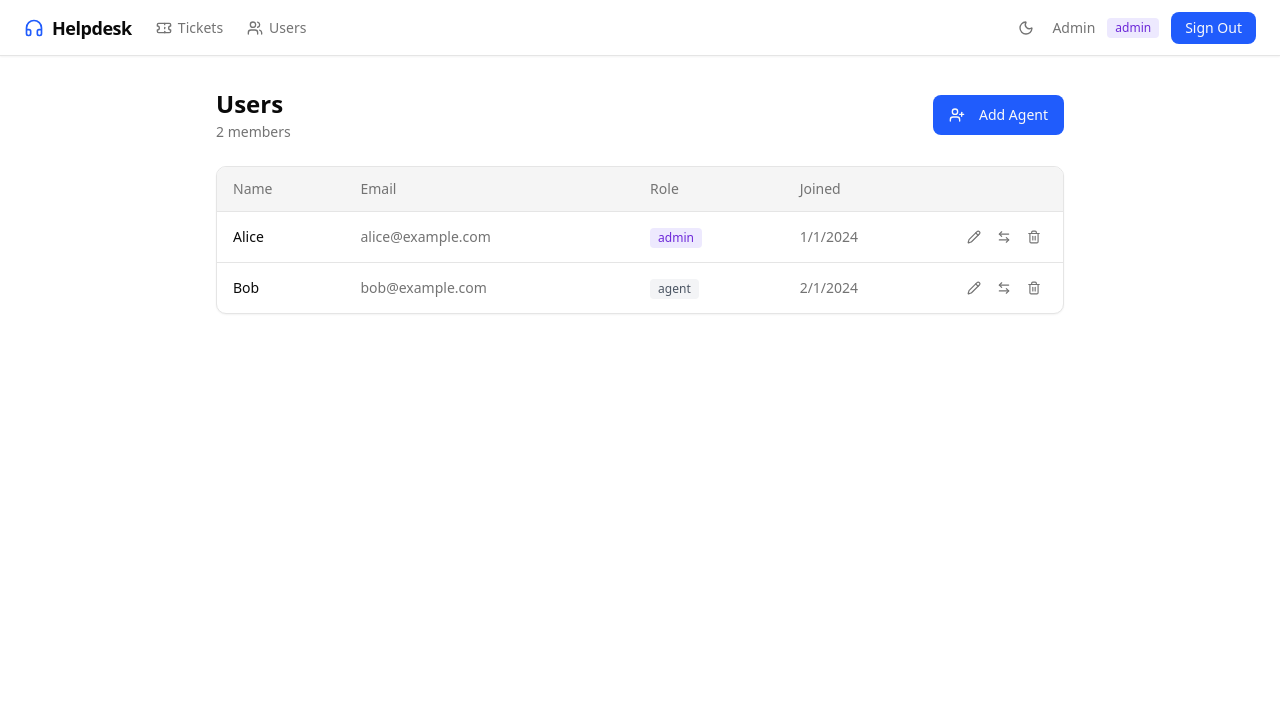
UsersPage › Add Agent form › shows validation errors when submitting empty
Check: the text "Alice" is shown, box top-left (217, 212), bottom-right (344, 262)
Click the button "Add Agent". click: (998, 115)
box: top-left (933, 95), bottom-right (1064, 135)
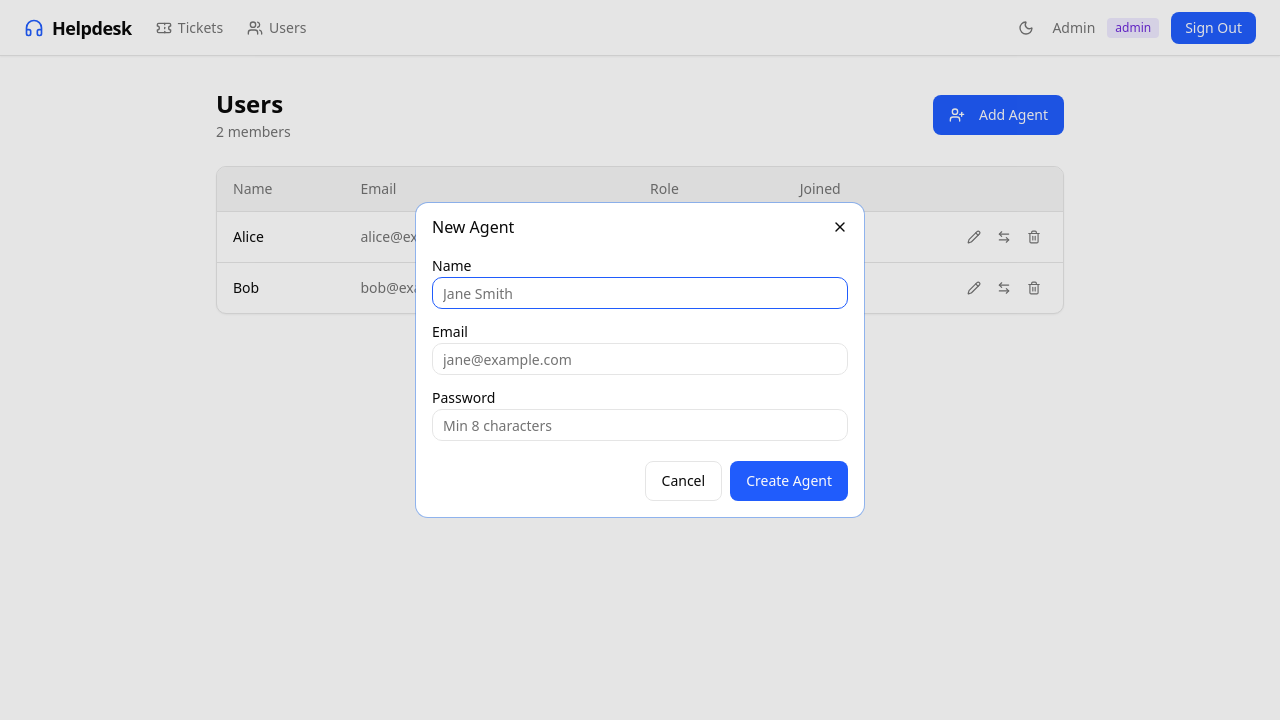
Click the button "Create Agent". click: (789, 481)
box: top-left (730, 461), bottom-right (848, 501)
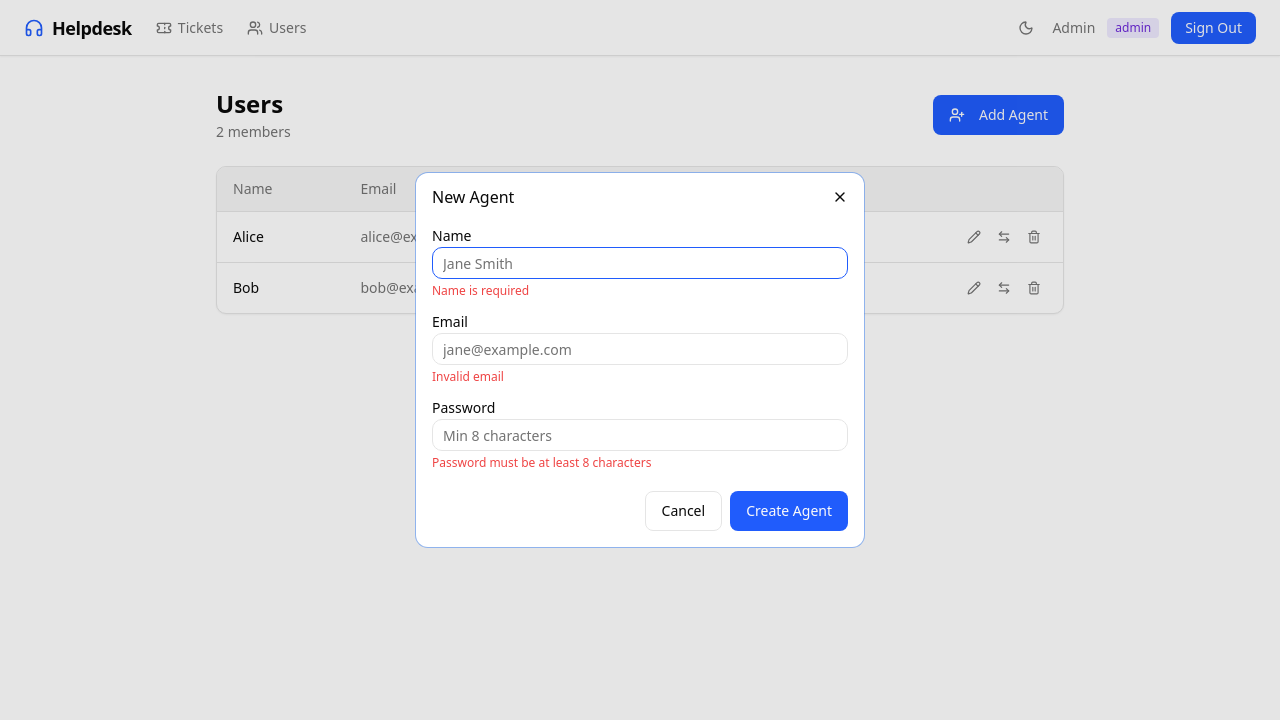
Check: the text "Name is required" is shown, box top-left (432, 282), bottom-right (529, 299)
Check: the text "Invalid email" is shown, box top-left (432, 368), bottom-right (504, 385)
Check: the text "Password must be at least 8 characters" is shown, box top-left (432, 454), bottom-right (651, 471)
